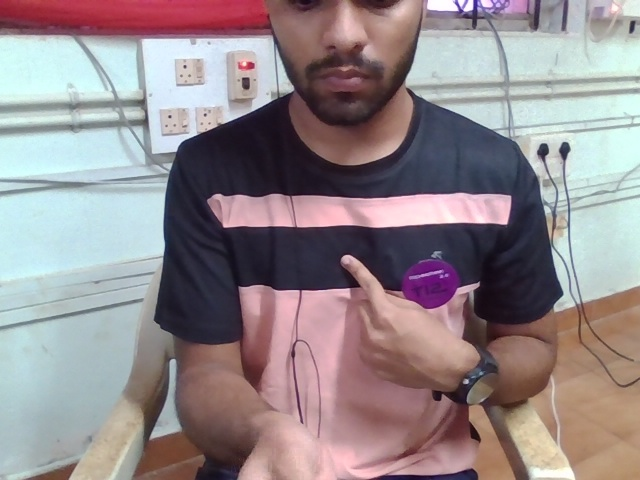my turn: (298, 232, 450, 413)
